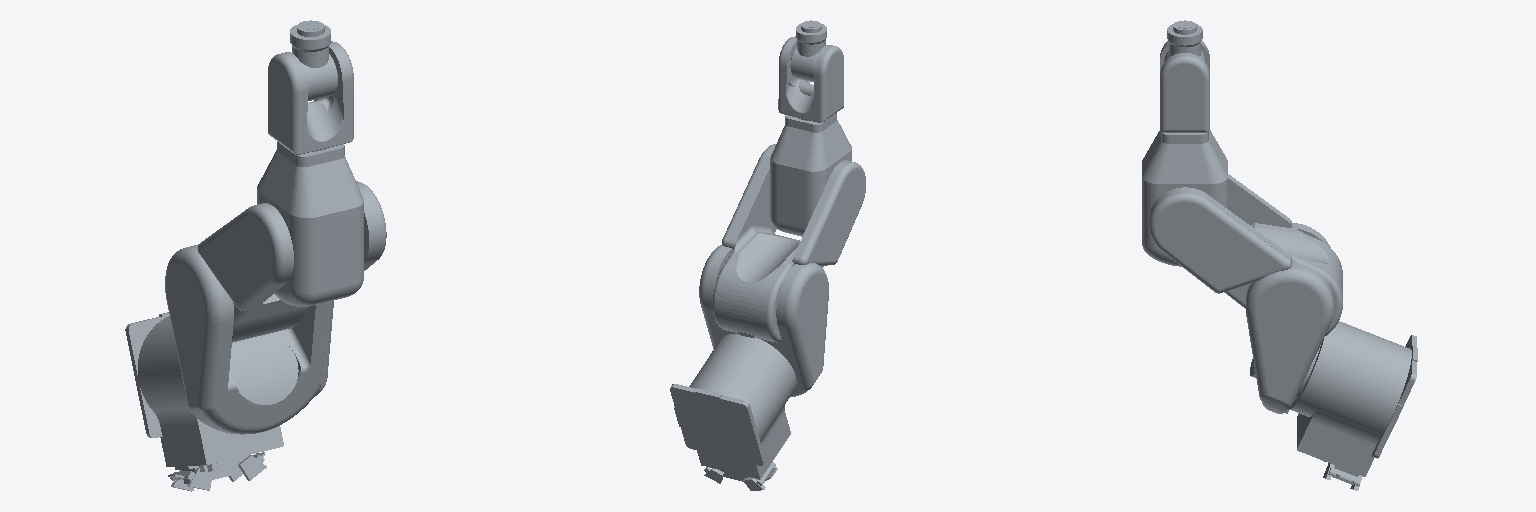
The robot description file, URDF, robot "Robot":
<?xml version="1.0" ?>
<robot name="Robot">
  <!--Generated by RobotCAD, a ROS Workbench for FreeCAD (https://github.com/drfenixion/freecad.robotcad)-->
  <link name="l_RS003_J001">
    <visual>
      <!--RS003_J001/RS003_J001.-->
      <origin rpy="0 0 0" xyz="0.273 -0.12 -0.83"/>
      <geometry>
        <mesh filename="package://my_package/meshes/rs003_j6.dae"/>
      </geometry>
    </visual>
    <collision>
      <!--col__l_RS003_J001__col_RS003_J6__BoundBox/col_RS003_J6__BoundBox.-->
      <origin rpy="0 0 0" xyz="0.273 -3.70774e-05 -0.0042495"/>
      <geometry>
        <box size="0.039988402417629104 0.03999968652193316 0.008500000400000157"/>
      </geometry>
    </collision>
    <inertial>
      <mass value="0.0803285528438147"/>
      <origin rpy="0 0 0" xyz="0.273 -3.70774e-05 -0.00439821"/>
      <inertia ixx="8.3682071906e-06" ixy="1.267e-13" ixz="0.0" iyy="8.3682070527e-06" iyz="6.9e-15" izz="1.58323993374e-05"/>
    </inertial>
  </link>
  <link name="l_RS003_J003">
    <visual>
      <!--RS003_J003/RS003_J002.-->
      <origin rpy="0 0 0" xyz="0.0 -0.120037 -0.8215"/>
      <geometry>
        <mesh filename="package://my_package/meshes/rs003_j5.dae"/>
      </geometry>
    </visual>
    <collision>
      <!--col__l_RS003_J003__col_RS003_J5__BoundBox/col_RS003_J5__BoundBox.-->
      <origin rpy="0 0 0" xyz="0.0 0.0 -0.05325"/>
      <geometry>
        <box size="0.05992137076332035 0.06998867017912917 0.10650000000000048"/>
      </geometry>
    </collision>
    <inertial>
      <mass value="2.392553491839076"/>
      <origin rpy="0 0 0" xyz="0.0 0.0 -0.0543424"/>
      <inertia ixx="0.002718435532738" ixy="-8.27977e-11" ixz="2.060499e-10" iyy="0.0026027311585313" iyz="-6.510688e-10" izz="0.0012056195560414"/>
    </inertial>
  </link>
  <link name="l_RS003_J005">
    <visual>
      <!--RS003_J005/RS003_J003.-->
      <origin rpy="-0.1265719785825881 -1.5707963267948721 0.0022421487090937835" xyz="0.729319 -0.212136 -0.027"/>
      <geometry>
        <mesh filename="package://my_package/meshes/rs003_j4.dae"/>
      </geometry>
    </visual>
    <collision>
      <!--col__l_RS003_J005__col_RS003_J4__BoundBox/col_RS003_J4__BoundBox.-->
      <origin rpy="-0.1265719785825881 -1.5707963267948721 0.0022421487090937835" xyz="0.032001 -0.00400012 -0.027"/>
      <geometry>
        <box size="0.10400000000000045 0.084 0.148500000000001"/>
      </geometry>
    </collision>
    <inertial>
      <mass value="5.622722564115208"/>
      <origin rpy="-0.1265719785825881 -1.5707963267948721 0.0022421487090937835" xyz="0.0465695 -0.00577864 -0.0269999"/>
      <inertia ixx="0.0117066586614941" ixy="-1.99090197e-08" ixz="-2.5554513e-09" iyy="0.0159116468739134" iyz="-1.17852836e-08" izz="0.0097558561925951"/>
    </inertial>
  </link>
  <link name="l_RS003_J007">
    <visual>
      <!--RS003_J007/RS003_J004.-->
      <origin rpy="0 0 0" xyz="0.0 -0.115695 -0.643463"/>
      <geometry>
        <mesh filename="package://my_package/meshes/rs003_j3.dae"/>
      </geometry>
    </visual>
    <collision>
      <!--col__l_RS003_J007__col_RS003_J3__BoundBox/col_RS003_J3__BoundBox.-->
      <origin rpy="0 0 0" xyz="0.0 0.0 -0.123582"/>
      <geometry>
        <box size="0.1200000001244 0.1460000000325 0.2471648918408054"/>
      </geometry>
    </collision>
    <inertial>
      <mass value="26.477788525349716"/>
      <origin rpy="0 0 0" xyz="0.0 0.0 -0.132247"/>
      <inertia ixx="0.1412313405598977" ixy="7.279388e-10" ixz="-4.01945e-11" iyy="0.1302094868917754" iyz="-5.445e-12" izz="0.0653398292035658"/>
    </inertial>
  </link>
  <link name="l_RS003_J009">
    <visual>
      <!--RS003_J009/RS003_J005.-->
      <origin rpy="-1.5707963267948966 -1.5707963267948963 0" xyz="-0.115695 -0.499963 -0.06"/>
      <geometry>
        <mesh filename="package://my_package/meshes/rs003_j2.dae"/>
      </geometry>
    </visual>
    <collision>
      <!--col__l_RS003_J009__col_RS003_J2__BoundBox/col_RS003_J2__BoundBox.-->
      <origin rpy="-1.5707963267948966 -1.5707963267948963 0" xyz="0.00444617 -0.131798 -0.0565"/>
      <geometry>
        <box size="0.1870000000033 0.1497175970251426 0.38556554125324793"/>
      </geometry>
    </collision>
    <inertial>
      <mass value="36.6291617831703"/>
      <origin rpy="-1.5707963267948966 -1.5707963267948963 0" xyz="-0.000479895 -0.167866 -0.0563889"/>
      <inertia ixx="0.3967984054122241" ixy="-0.0006897250287715" ixz="-0.0145070329272851" iyy="0.459450183695149" iyz="0.0074675651746919" izz="0.1574315991865753"/>
    </inertial>
  </link>
  <link name="l_RS003_J011">
    <visual>
      <!--RS003_J011/RS003_J006.-->
      <origin rpy="-1.5707963267948966 -1.5707963267948961 0" xyz="-0.12 -0.25 -0.066"/>
      <geometry>
        <mesh filename="package://my_package/meshes/rs003_j1.dae"/>
      </geometry>
    </visual>
    <collision>
      <!--col__l_RS003_J011__col_RS003_J1__BoundBox/col_RS003_J1__BoundBox.-->
      <origin rpy="-1.5707963267948966 -1.5707963267948961 0" xyz="-0.0709958 -0.007 -0.065"/>
      <geometry>
        <box size="0.21400000000500002 0.29186909524611104 0.1640000000235"/>
      </geometry>
    </collision>
    <inertial>
      <mass value="27.36002087334788"/>
      <origin rpy="-1.5707963267948966 -1.5707963267948961 0" xyz="-0.0774286 -0.0286041 -0.0642585"/>
      <inertia ixx="0.1798549429702628" ixy="-0.0016033885280406" ixz="-0.0007794366483141" iyy="0.1802332816863891" iyz="-0.0375319719097761" izz="0.281547991122138"/>
    </inertial>
  </link>
  <link name="l_RS003_J013">
    <visual>
      <!--RS003_J013/RS003_J007.-->
      <origin rpy="0 0 0" xyz="0.0 0.0 -0.161"/>
      <geometry>
        <mesh filename="package://my_package/meshes/rs003_j0.dae"/>
      </geometry>
    </visual>
    <collision>
      <!--col__l_RS003_J013__col_RS003_J0__BoundBox/col_RS003_J0__BoundBox.-->
      <origin rpy="0 0 0" xyz="0.0015 -0.0424387 -0.0805"/>
      <geometry>
        <box size="0.173 0.26087733303699995 0.161"/>
      </geometry>
    </collision>
    <inertial>
      <mass value="37.27686566048051"/>
      <origin rpy="0 0 0" xyz="0.0 -0.0241529 -0.0855527"/>
      <inertia ixx="0.2114660740975474" ixy="-0.0001821616079165" ixz="0.0001103503880028" iyy="0.1435471872256395" iyz="-0.0133620521734994" izz="0.2010238631613447"/>
    </inertial>
  </link>
  <joint name="l_RS003_J001__to__l_RS003_J003" type="revolute">
    <parent link="l_RS003_J001"/>
    <child link="l_RS003_J003"/>
    <origin rpy="0 0 0" xyz="0.273 -3.70772e-05 -0.0084995"/>
    <axis xyz="0 0 1"/>
    <limit effort="0.0" lower="0.0" upper="0.0" velocity="0.0"/>
  </joint>
  <joint name="l_RS003_J003__to__l_RS003_J005" type="revolute">
    <parent link="l_RS003_J003"/>
    <child link="l_RS003_J005"/>
    <origin rpy="1.5707963267948817 1.4449221537738492 1.570796326794879" xyz="0.027 0.0 -0.0715"/>
    <axis xyz="0 0 1"/>
    <limit effort="0.0" lower="0.0" upper="0.0" velocity="0.0"/>
  </joint>
  <joint name="l_RS003_J005__to__l_RS003_J007" type="revolute">
    <parent link="l_RS003_J005"/>
    <child link="l_RS003_J007"/>
    <origin rpy="-0.18819441090789868 -1.570796326794885 0.06358240352193337" xyz="0.105678 -0.0132097 -0.027"/>
    <axis xyz="0 0 1"/>
    <limit effort="0.0" lower="0.0" upper="0.0" velocity="0.0"/>
  </joint>
  <joint name="l_RS003_J007__to__l_RS003_J009" type="revolute">
    <parent link="l_RS003_J007"/>
    <child link="l_RS003_J009"/>
    <origin rpy="1.570796326794896 -0.8583647361994248 1.5707963262540305" xyz="0.06 0.0 -0.147828"/>
    <axis xyz="0 0 1"/>
    <limit effort="0.0" lower="0.0" upper="0.0" velocity="0.0"/>
  </joint>
  <joint name="l_RS003_J009__to__l_RS003_J011" type="revolute">
    <parent link="l_RS003_J009"/>
    <child link="l_RS003_J011"/>
    <origin rpy="0 0 0.3041650618641019" xyz="0.000560336 -0.233471 0.006"/>
    <axis xyz="0 0 1"/>
    <limit effort="0.0" lower="0.0" upper="0.0" velocity="0.0"/>
  </joint>
  <joint name="l_RS003_J011__to__l_RS003_J013" type="revolute">
    <parent link="l_RS003_J011"/>
    <child link="l_RS003_J013"/>
    <origin rpy="-1.570796326794897 -1.5707963267948961 0" xyz="-0.120001 -0.089 -0.066"/>
    <axis xyz="0 0 1"/>
    <limit effort="0.0" lower="0.0" upper="0.0" velocity="0.0"/>
  </joint>
</robot>

--- What the picture shows (computed from the rendered views, not written in the file) ---
3 views of the same robot in one strip: view 1: azimuth 30°, elevation 25°; view 2: azimuth 150°, elevation 25°; view 3: azimuth 270°, elevation 25° (orthographic).
Model Robot with 7 links and 6 joints (6 revolute), rooted at l_RS003_J001, posed every joint at zero.
Links seen in each view (by area): view 1: l_RS003_J011, l_RS003_J007, l_RS003_J013, l_RS003_J009, l_RS003_J005, l_RS003_J003; view 2: l_RS003_J009, l_RS003_J013, l_RS003_J011, l_RS003_J007, l_RS003_J005, l_RS003_J003; view 3: l_RS003_J009, l_RS003_J013, l_RS003_J011, l_RS003_J007, l_RS003_J005, l_RS003_J003.
Boxes of the visible links, <box> form: l_RS003_J011: <box>165,245,333,434</box>; l_RS003_J007: <box>257,141,363,306</box>; l_RS003_J013: <box>125,312,283,491</box>; l_RS003_J009: <box>198,181,386,342</box>; l_RS003_J005: <box>268,41,353,154</box>; l_RS003_J003: <box>290,25,337,100</box>; l_RS003_J009: <box>713,144,865,342</box>; l_RS003_J013: <box>670,335,794,490</box>; l_RS003_J011: <box>699,245,828,396</box>; l_RS003_J007: <box>770,113,851,236</box>; l_RS003_J005: <box>778,36,843,122</box>; l_RS003_J003: <box>790,24,826,81</box>; l_RS003_J009: <box>1149,174,1342,335</box>; l_RS003_J013: <box>1292,321,1417,490</box>; l_RS003_J011: <box>1246,223,1333,413</box>; l_RS003_J007: <box>1142,130,1227,266</box>; l_RS003_J005: <box>1160,41,1209,132</box>; l_RS003_J003: <box>1164,24,1205,62</box>.
Size in the robot's own frame: 0.214 by 0.4672 by 0.8525 metres.
7 mesh visuals loaded from 7 distinct referenced files (7 Collada DAE).
